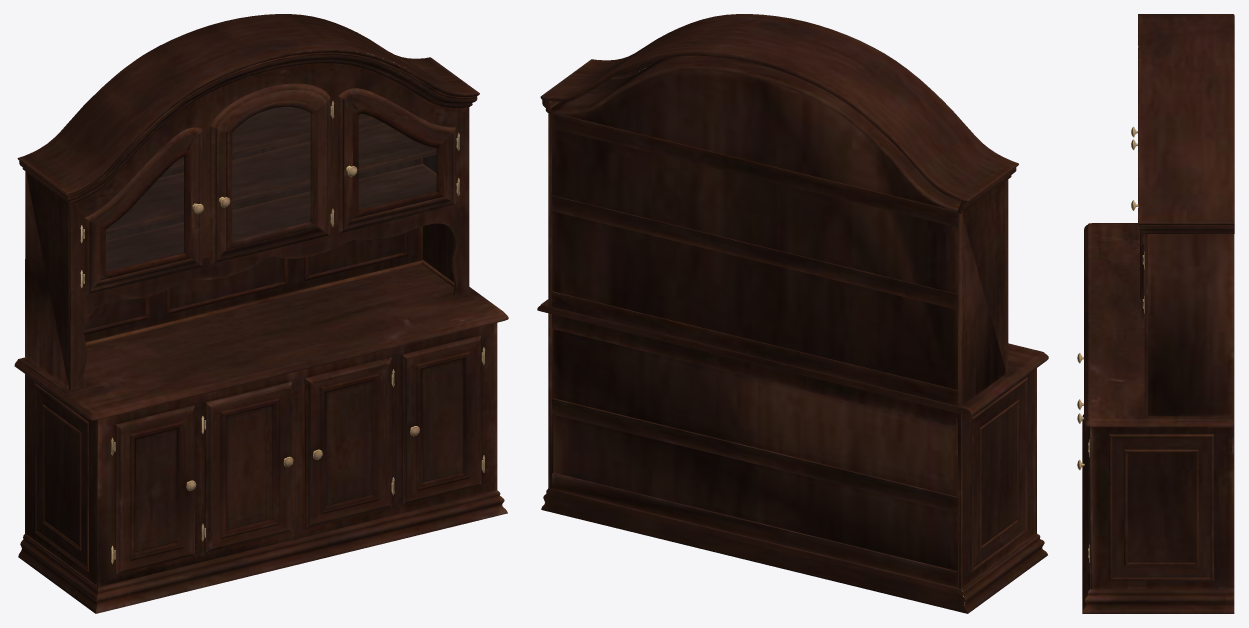
The model's file is ph_vintage_cabinet_01.glb.
3 views of the same model, side by side, from view 1: azimuth 30°, elevation 25°; view 2: azimuth 150°, elevation 25°; view 3: azimuth 270°, elevation 25° (orthographic). The views are drawn at different scales.
Visible parts, largest first — view 1: vintage_cabinet_01_body; view 2: vintage_cabinet_01_body; view 3: vintage_cabinet_01_body.
Boxes of the visible parts, x1=… form: vintage_cabinet_01_body: x1=14, y1=14, x2=508, y2=613; vintage_cabinet_01_body: x1=537, y1=14, x2=1048, y2=613; vintage_cabinet_01_body: x1=1077, y1=14, x2=1234, y2=613.
Bounding box in the file's own units: 2.02 × 2.23 × 0.6698.
Materials: 3 (2 with a texture image).
